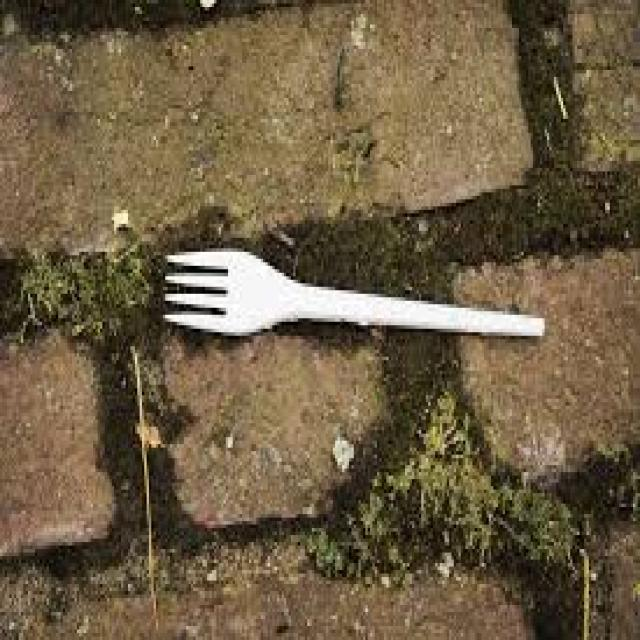nhua: (165, 252, 547, 337)
